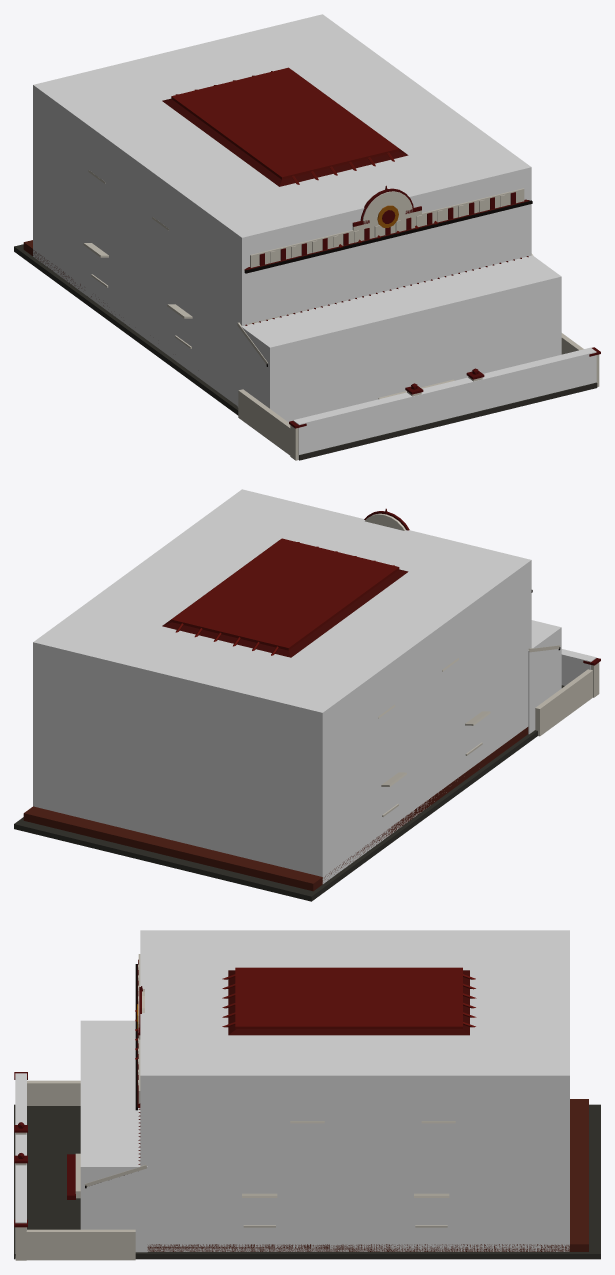
File: B36_chettinad_house.glb
The picture shows the model from 3 angles, top to bottom: view 1: azimuth 30°, elevation 25°; view 2: azimuth 150°, elevation 25°; view 3: azimuth 270°, elevation 25°; orthographic projection. The views are drawn at different scales.
Visible parts, largest first — view 1: COL_Main, COL_Verandah, LOD0, COL_Compound; view 2: COL_Main, LOD0, COL_Verandah, COL_Compound; view 3: COL_Main, LOD0, COL_Verandah, COL_Compound.
Part boxes in pixels (bbox=[...]): COL_Main: bbox=[33, 14, 531, 405]; COL_Verandah: bbox=[237, 255, 561, 422]; LOD0: bbox=[14, 67, 600, 460]; COL_Compound: bbox=[293, 347, 596, 459]; COL_Main: bbox=[33, 489, 531, 883]; LOD0: bbox=[14, 508, 600, 901]; COL_Verandah: bbox=[528, 620, 561, 734]; COL_Compound: bbox=[561, 649, 596, 685]; COL_Main: bbox=[140, 930, 569, 1251]; LOD0: bbox=[14, 954, 600, 1260]; COL_Verandah: bbox=[80, 1020, 147, 1252]; COL_Compound: bbox=[15, 1073, 26, 1258].
Size of what is drawn, in the model's own units: 15.25 by 9.17 by 24.6.
